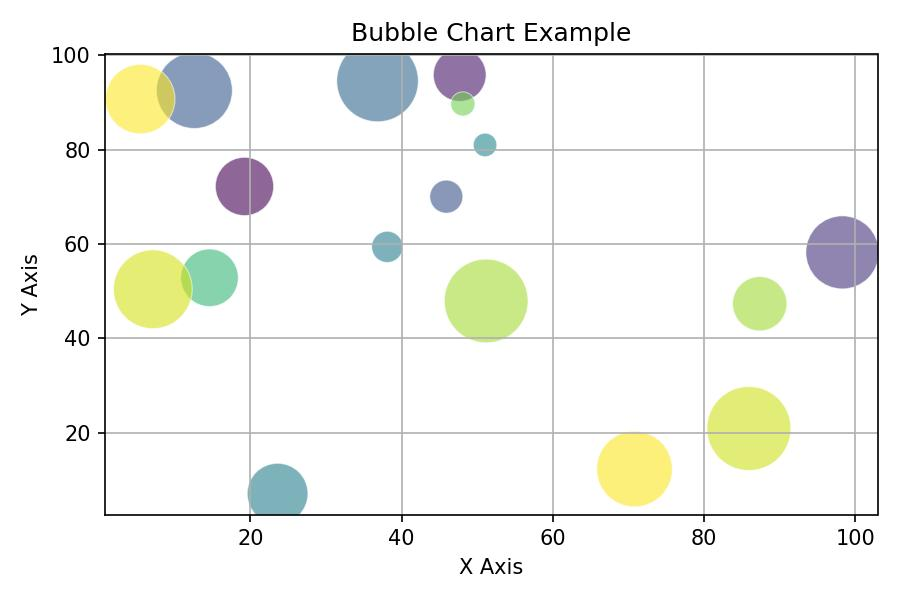axis: (91, 503, 896, 552), (49, 33, 118, 541)
circle: (443, 262, 529, 343), (708, 386, 791, 468), (593, 428, 679, 505), (114, 251, 194, 328), (161, 53, 235, 128), (339, 52, 419, 119), (104, 64, 179, 133), (806, 218, 876, 289), (219, 156, 275, 213), (184, 249, 240, 304), (249, 463, 309, 514), (733, 274, 788, 328), (432, 55, 489, 93), (370, 226, 407, 265), (426, 178, 465, 214), (450, 91, 477, 118), (470, 134, 499, 158)
